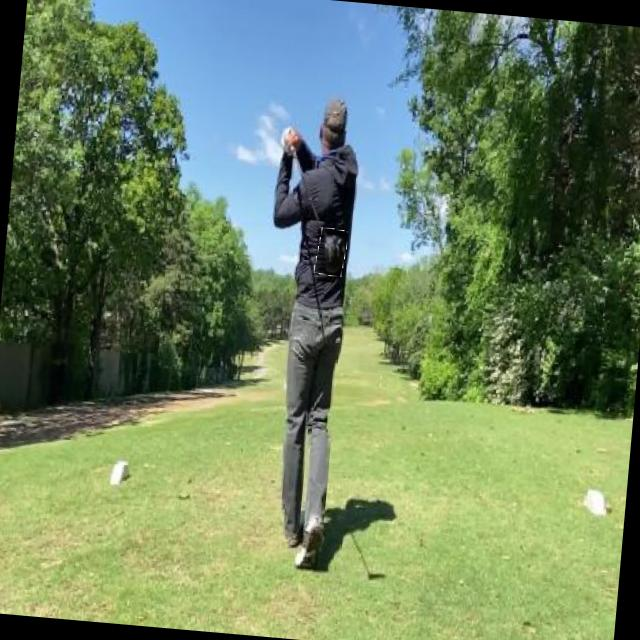club head: (314, 227, 347, 276)
